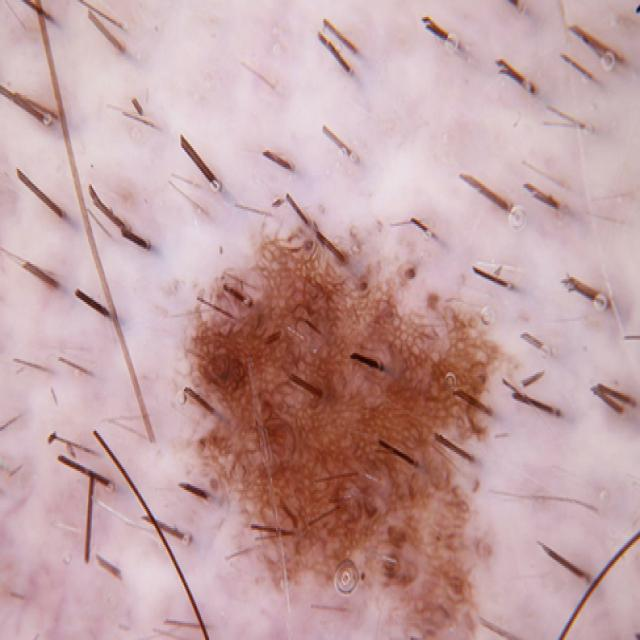Keratosis: (157, 176, 532, 640)
